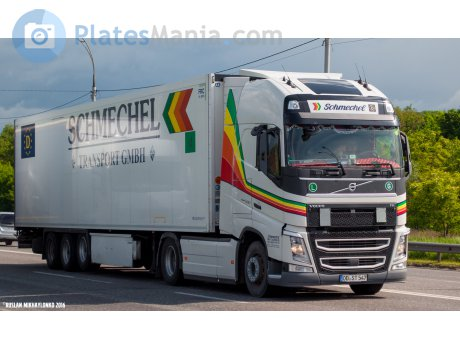License Plates: (345, 272, 368, 279)
